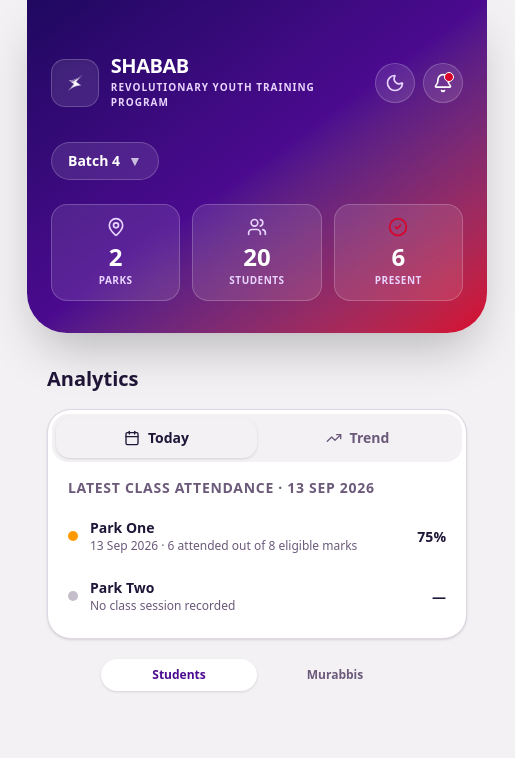
it: MobileHomeDashboard › labels the Trend period from the returned Batch start to the latest session
The width and height of the screenshot is (515, 758).
Click the button "Trend": (358, 438) [257, 418, 458, 458]
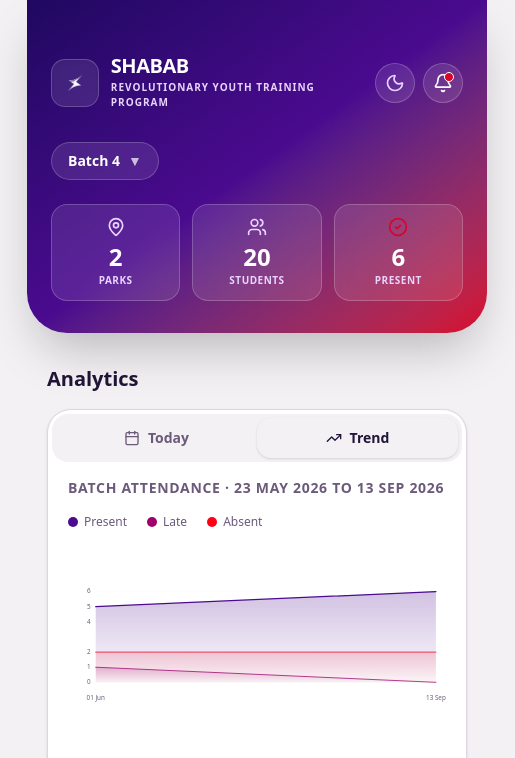
Now the heading "Batch attendance · 23 May 2026 to 13 Sep 2026" is shown, box [68, 478, 446, 498]
